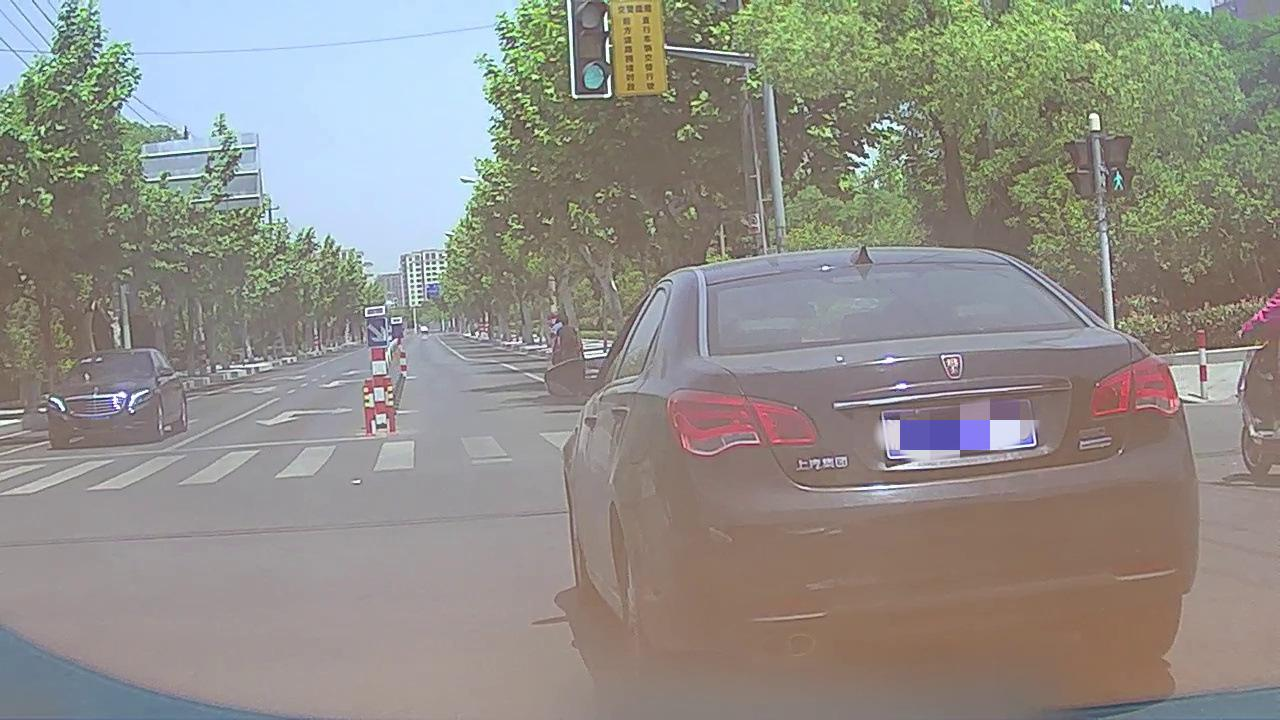traffic_light: (571, 1, 607, 96)
